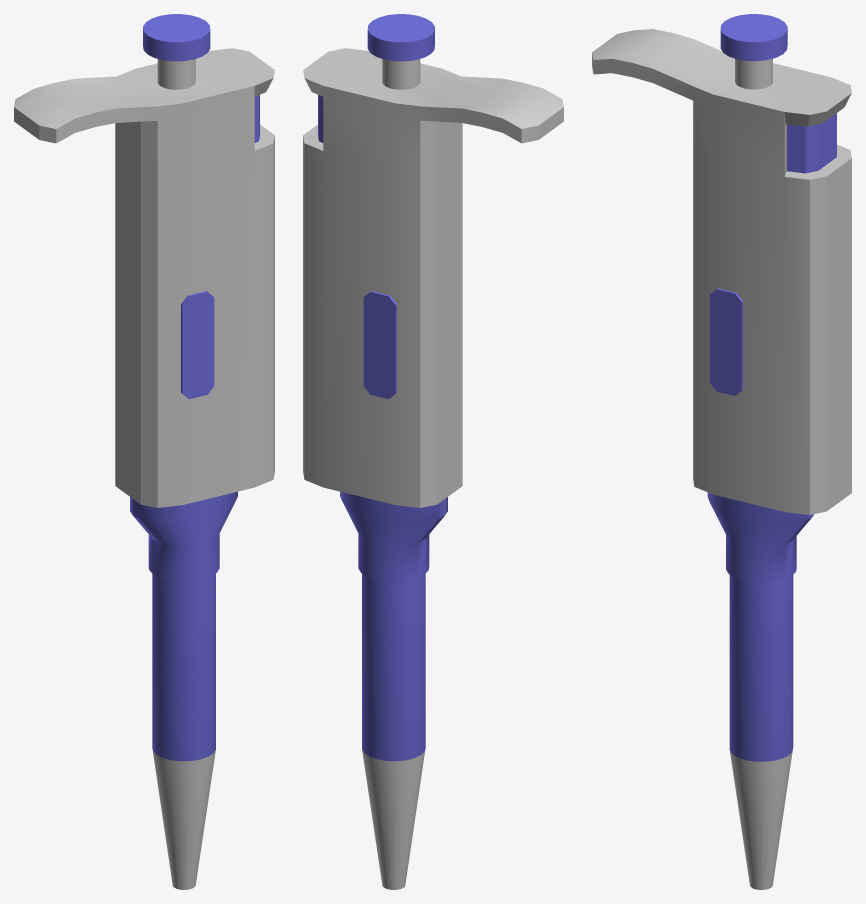
Rendered from pippette.fbx.
3 renders of one model, left to right at view 1: azimuth 30°, elevation 25°; view 2: azimuth 150°, elevation 25°; view 3: azimuth 330°, elevation 25°, orthographic.
Parts seen in each view (by area): view 1: Pippette; view 2: Pippette; view 3: Pippette.
Boxes of the visible parts, x1,y1,x2,y2 form: Pippette: [14, 14, 274, 889]; Pippette: [303, 14, 563, 889]; Pippette: [592, 14, 851, 889].
Size of the model in its own units: 8 by 2.94 by 27.85.
